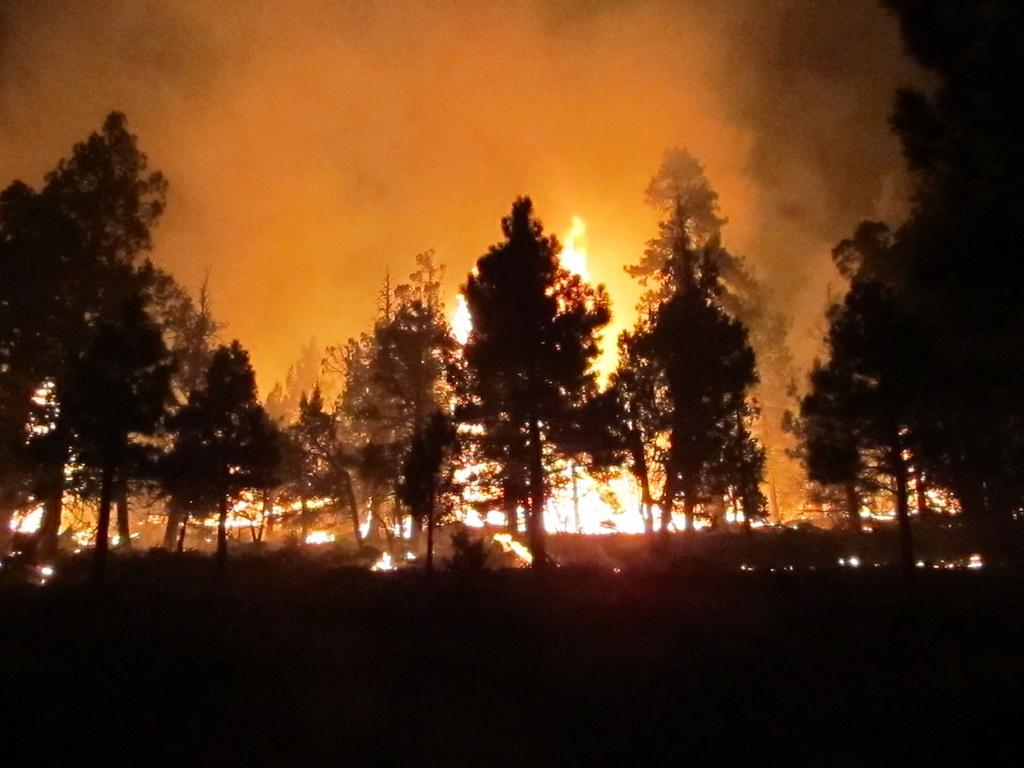fire: (554, 478, 650, 530), (444, 294, 484, 348), (562, 236, 594, 286)
